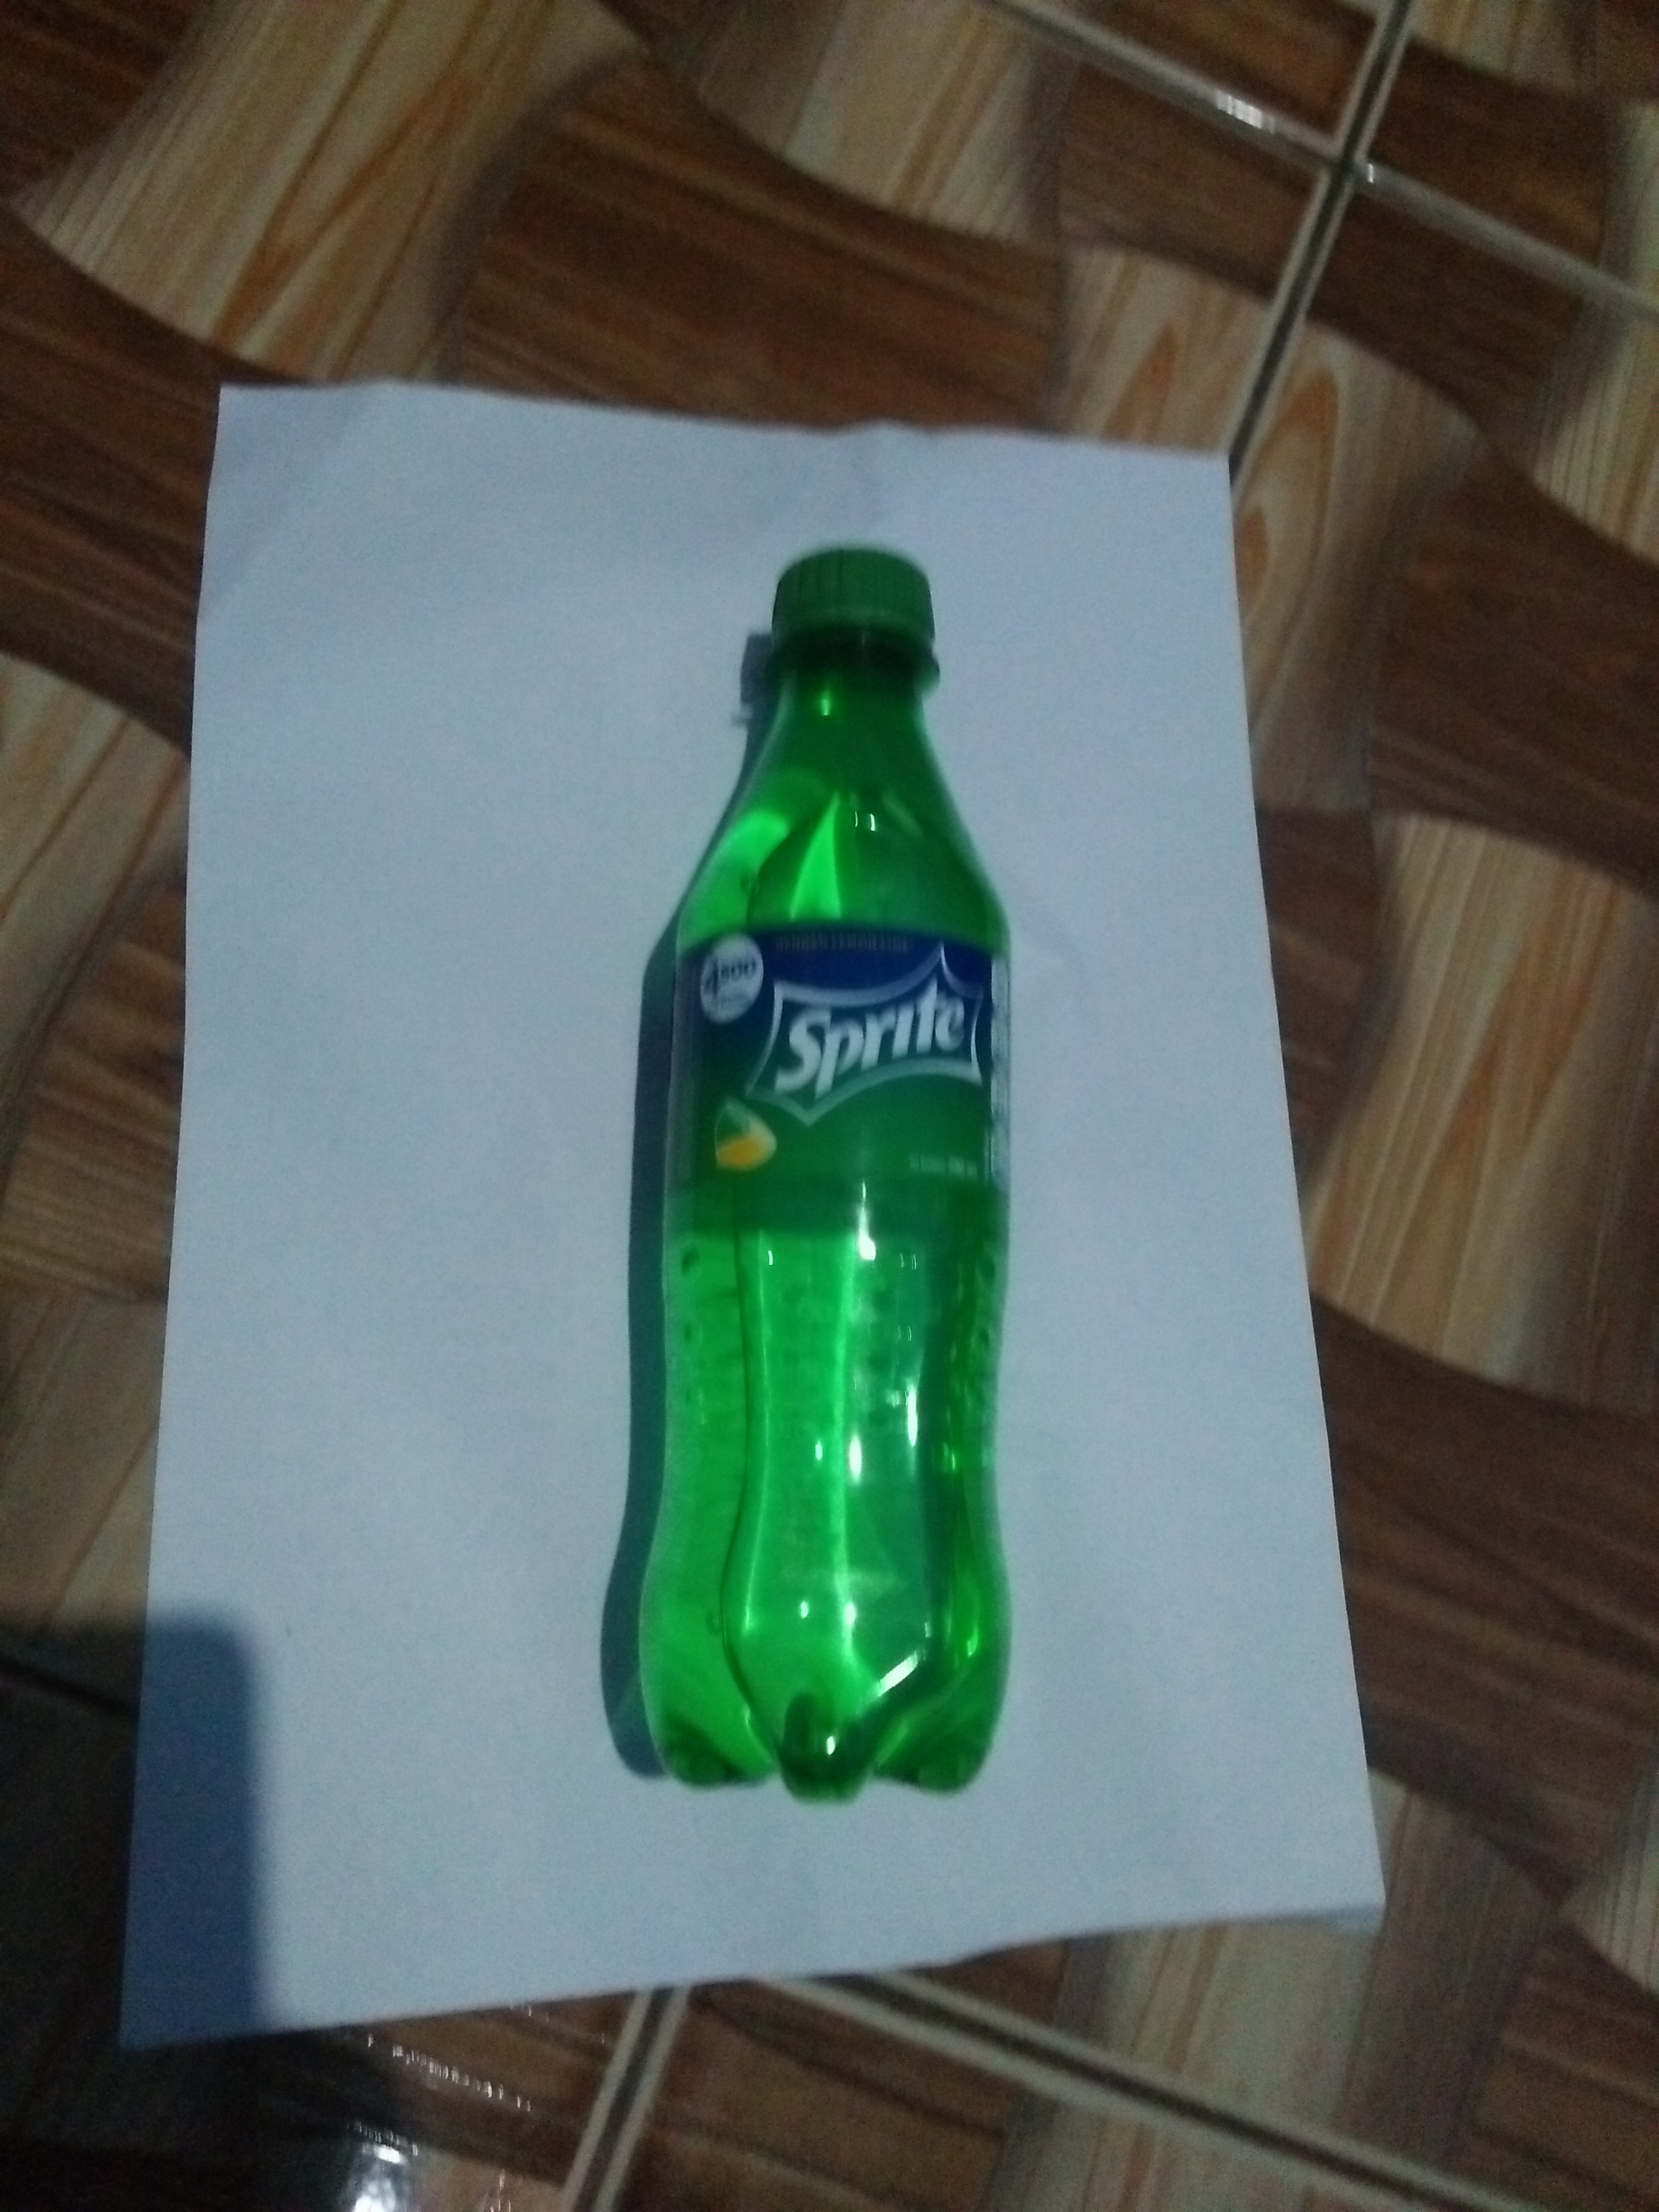Sprite: (594, 531, 1047, 1825)
